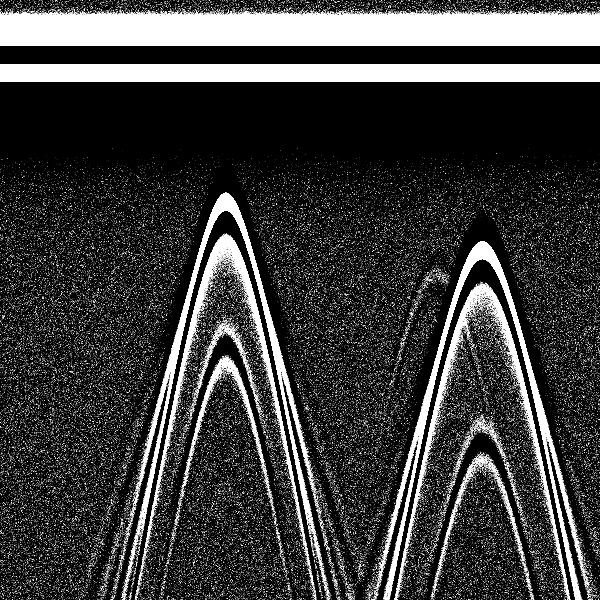pipe: (431, 6, 536, 332), (175, 8, 275, 285), (394, 5, 474, 329)
